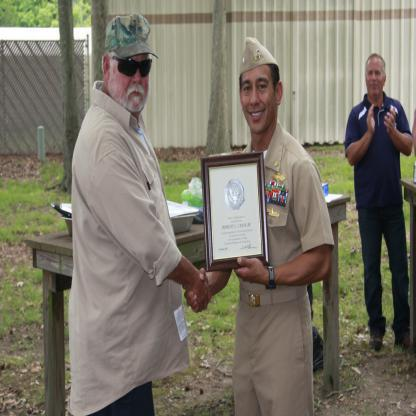Picture-frame: (203, 156, 271, 271)
